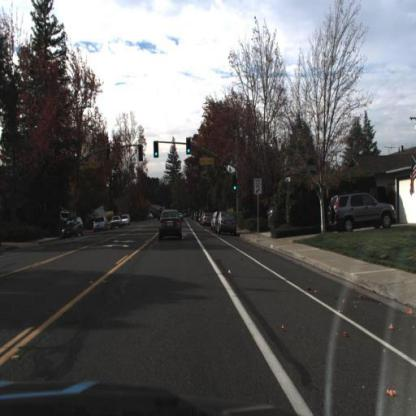car: (326, 190, 399, 234), (157, 208, 185, 244), (215, 208, 239, 237), (62, 216, 85, 239), (209, 208, 222, 234), (267, 203, 279, 230), (94, 216, 108, 234), (111, 215, 123, 231), (121, 214, 131, 228)
trafficLight-Green: (232, 175, 240, 193), (153, 142, 160, 160), (232, 176, 239, 194), (187, 138, 193, 156), (186, 136, 191, 157), (154, 141, 159, 159)
